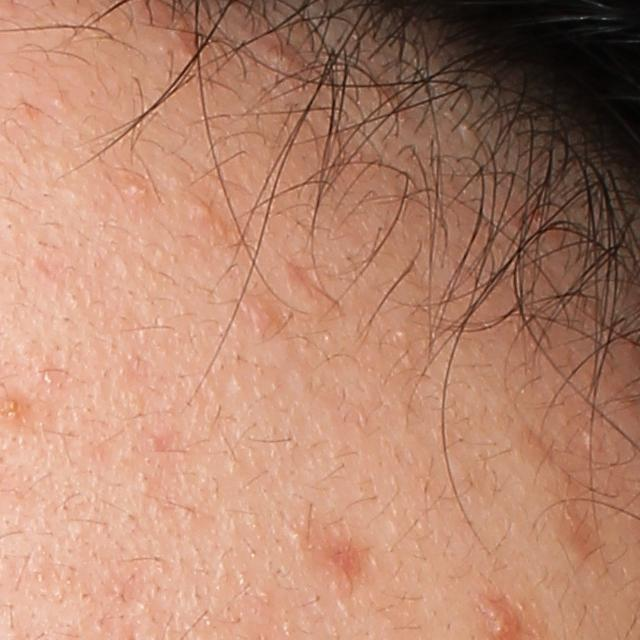comedo: (288, 528, 305, 547), (41, 367, 57, 386)
papule: (241, 294, 278, 333)
